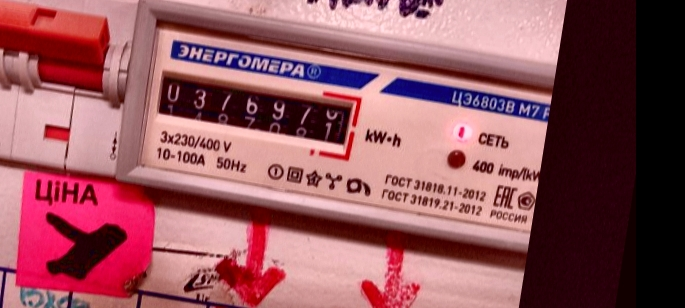0: (163, 79, 181, 103)
1: (319, 119, 332, 142)
3: (190, 86, 206, 109)
6: (242, 90, 260, 115)
7: (216, 87, 233, 112), (295, 100, 312, 125)
9: (268, 96, 286, 120)
screen: (142, 60, 364, 164)
